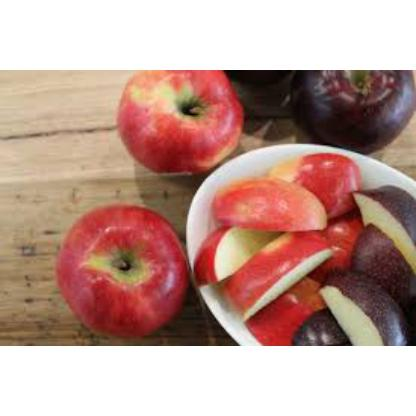apple: (58, 211, 184, 327), (119, 72, 243, 164), (292, 70, 408, 148)
